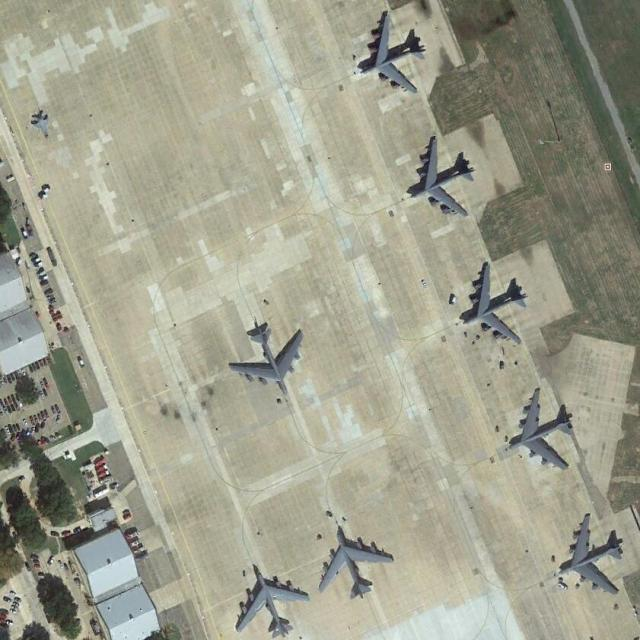fighter jet: (401, 135, 477, 222), (559, 510, 629, 597), (314, 525, 398, 596), (460, 258, 530, 343), (506, 387, 576, 470), (367, 8, 429, 94), (236, 564, 308, 637), (235, 326, 305, 384)
